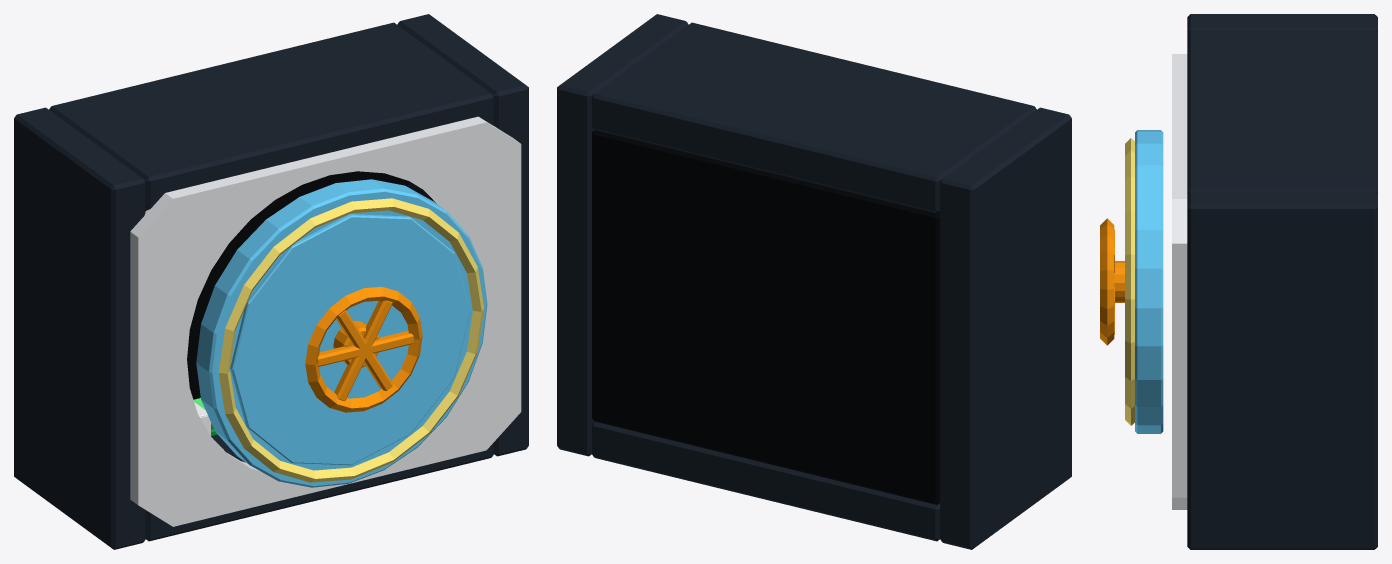
Rendered from vault_diamond__v001__model.fbx.
3 views of the same model, side by side, from view 1: azimuth 30°, elevation 25°; view 2: azimuth 150°, elevation 25°; view 3: azimuth 270°, elevation 25° (orthographic). The views are drawn at different scales.
Parts seen in each view (by area): view 1: vault_diamond_Mesh, DoorHinge_Mesh, WheelPivot_Mesh; view 2: vault_diamond_Mesh; view 3: vault_diamond_Mesh, DoorHinge_Mesh, WheelPivot_Mesh.
Boxes of the visible parts, x1,y1,x2,y2 form: vault_diamond_Mesh: (14,14,528,549); DoorHinge_Mesh: (196,179,487,487); WheelPivot_Mesh: (305,286,422,412); vault_diamond_Mesh: (557,14,1071,549); vault_diamond_Mesh: (1172,14,1377,549); DoorHinge_Mesh: (1125,130,1163,433); WheelPivot_Mesh: (1100,218,1124,345).
Size of the model in its own units: 4.8 by 4 by 2.92.
Materials: 1 (1 with a texture image).
